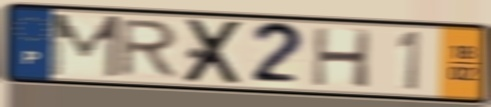1: (395, 29, 423, 93)
2: (247, 20, 309, 91)
H: (310, 25, 374, 90)
M: (47, 11, 124, 80)
R: (115, 18, 183, 80)
X: (180, 17, 248, 86)
